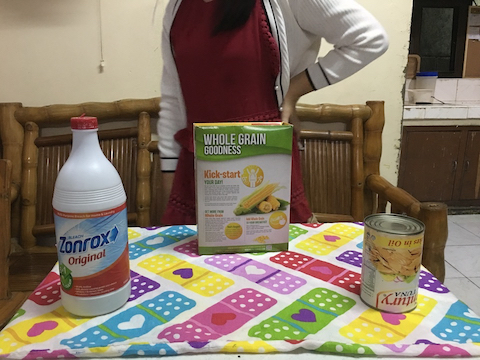bottle: (49, 114, 138, 320)
box: (192, 115, 299, 260)
can: (359, 212, 428, 315)
